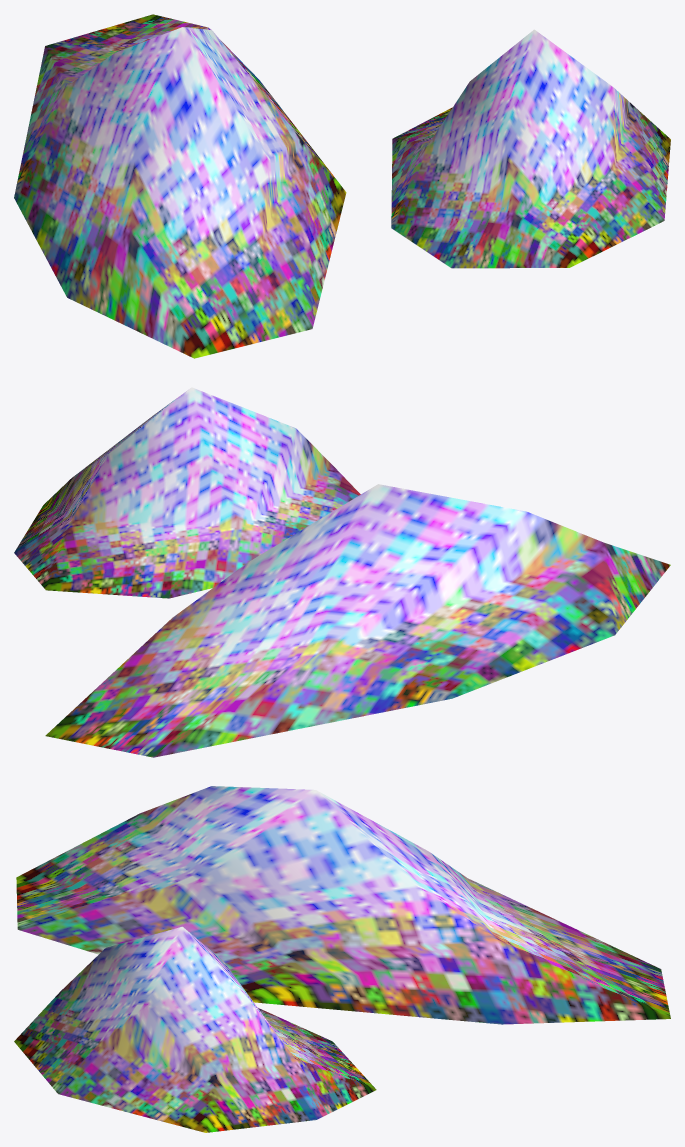
File: death.glb
3 views of the same model, one above another, from view 1: azimuth 30°, elevation 25°; view 2: azimuth 150°, elevation 25°; view 3: azimuth 270°, elevation 25° (orthographic). The views are drawn at different scales.
Parts seen in each view (by area): view 1: MeshRoot; view 2: MeshRoot; view 3: MeshRoot.
Boxes of the visible parts, left/top/right/bottom form: MeshRoot: left=14, top=14, right=670, bottom=358; MeshRoot: left=14, top=387, right=670, bottom=757; MeshRoot: left=14, top=786, right=670, bottom=1132.
Size of the model in its own units: 8.16 by 2.19 by 8.38.
Materials: 1 (1 with a texture image).
